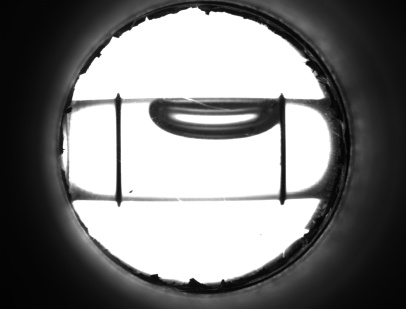line: (111, 113, 126, 186), (277, 131, 290, 188)
